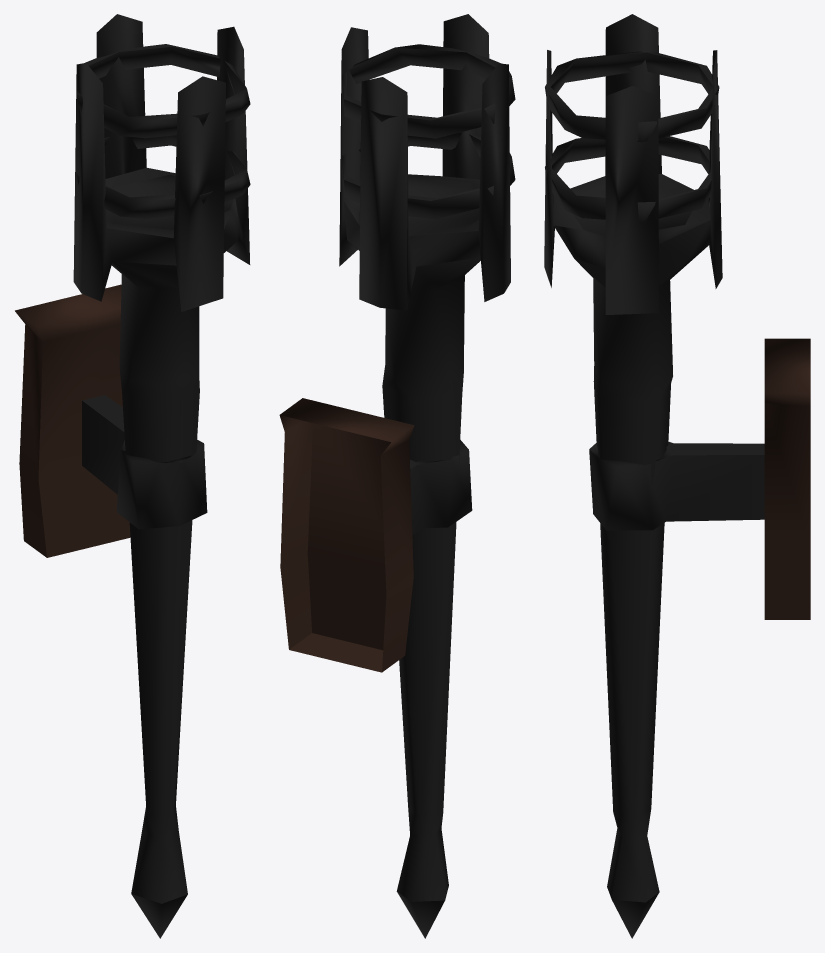
Rendered from Light.fbx.
3 renders of one model, left to right at view 1: azimuth 30°, elevation 25°; view 2: azimuth 150°, elevation 25°; view 3: azimuth 270°, elevation 25°, orthographic.
Visible parts, largest first — view 1: torch2; view 2: torch2; view 3: torch2.
Boxes of the visible parts, bbox=[...] form: torch2: bbox=[15, 14, 250, 938]; torch2: bbox=[279, 14, 515, 938]; torch2: bbox=[544, 14, 810, 938].
Size of the model in its own units: 12.46 by 68.52 by 18.62.
